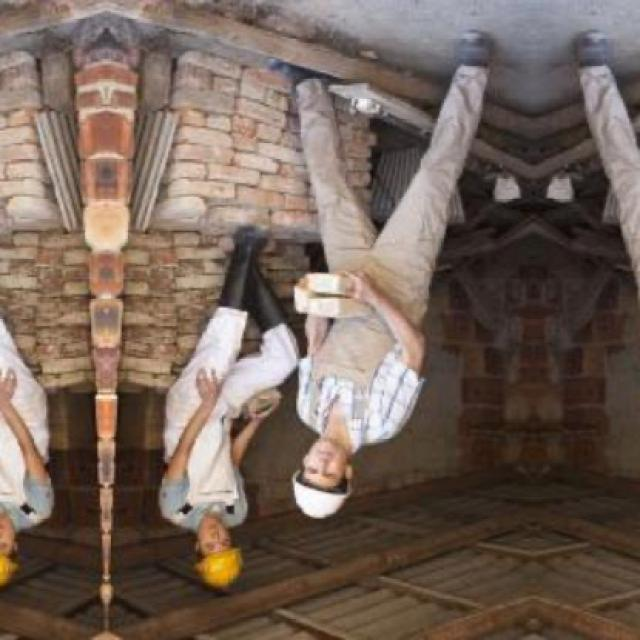con casco: (286, 416, 388, 534), (199, 510, 253, 595)
